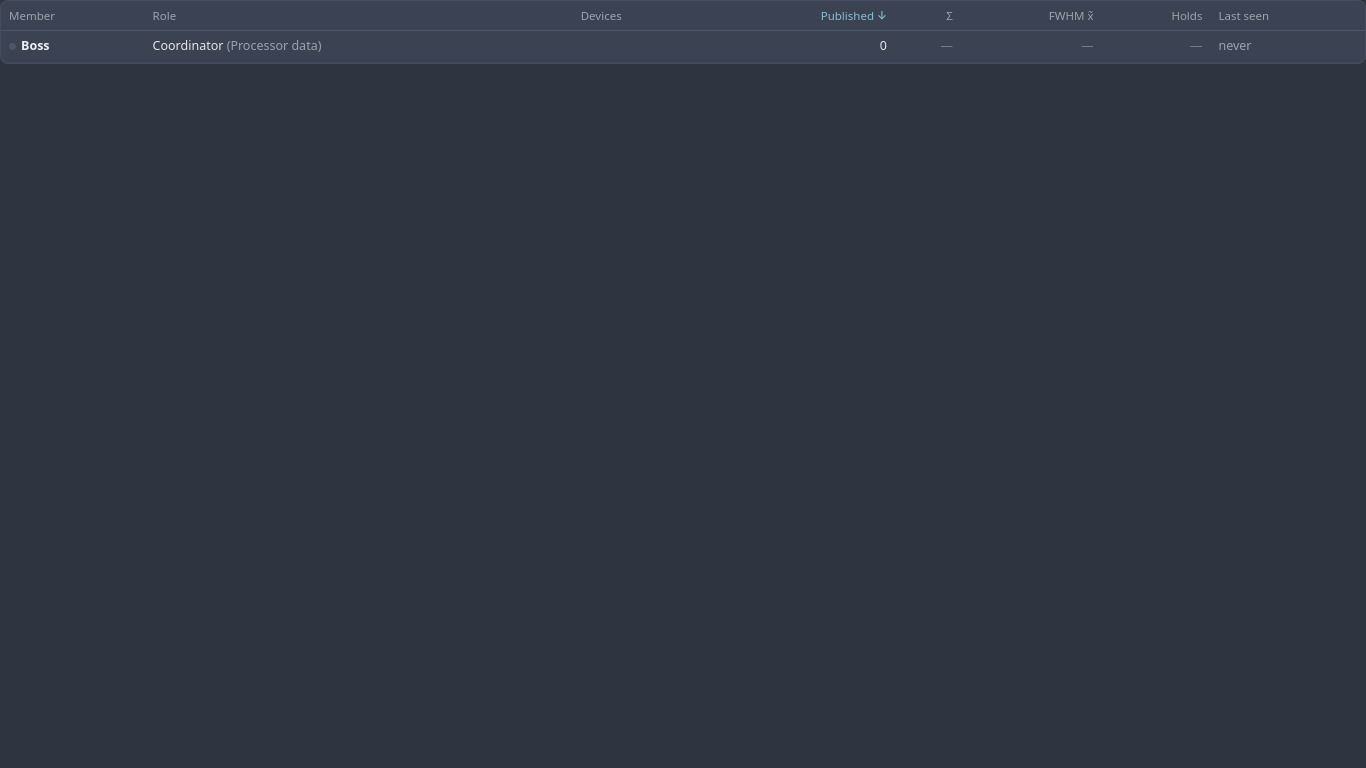
MembersTab — mockup table › an offline member never seen reads "never"; the panel shows the Coordinator chip
expect the text "never" is shown: met, box [1218,37,1252,54]
Click the text "Boss". click: [35, 47]
box: [21,37,50,56]
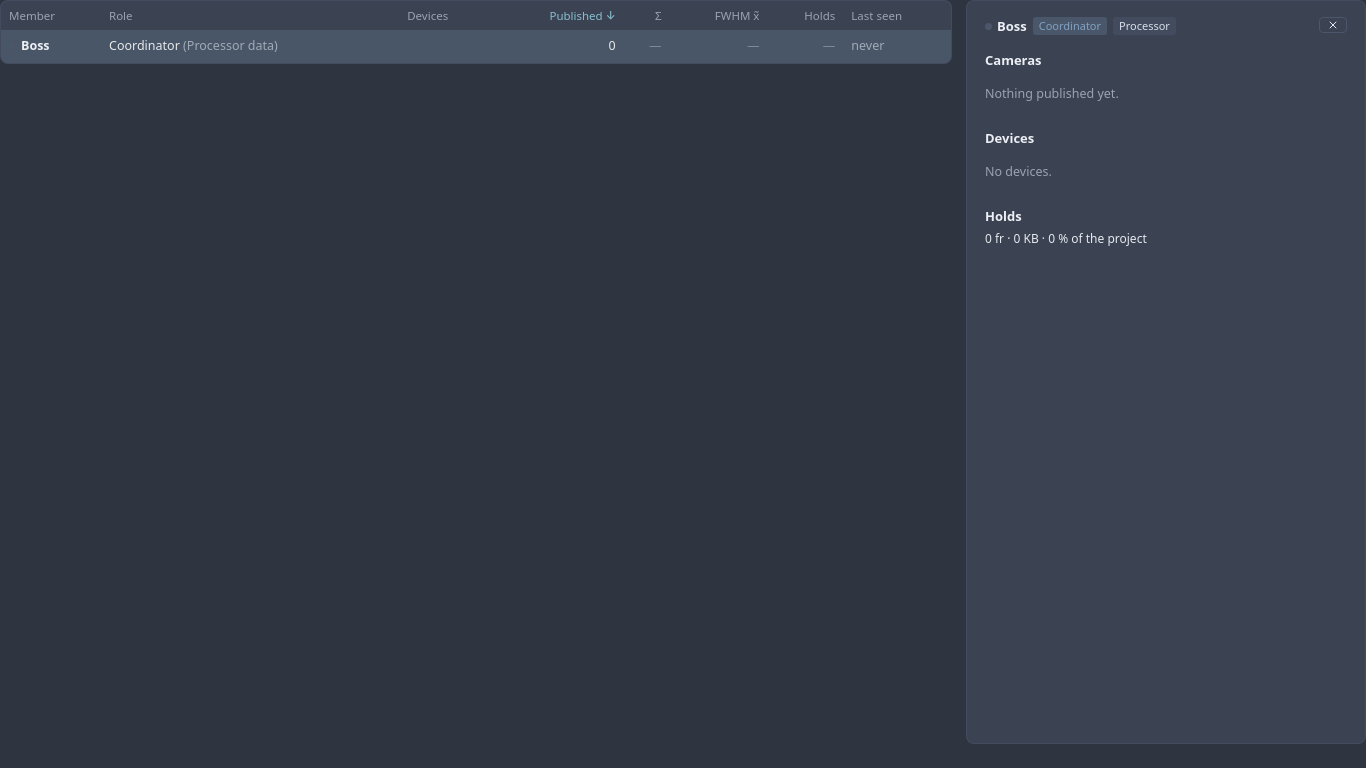
expect the text "Coordinator" is shown: met, box [1033,17,1107,35]
